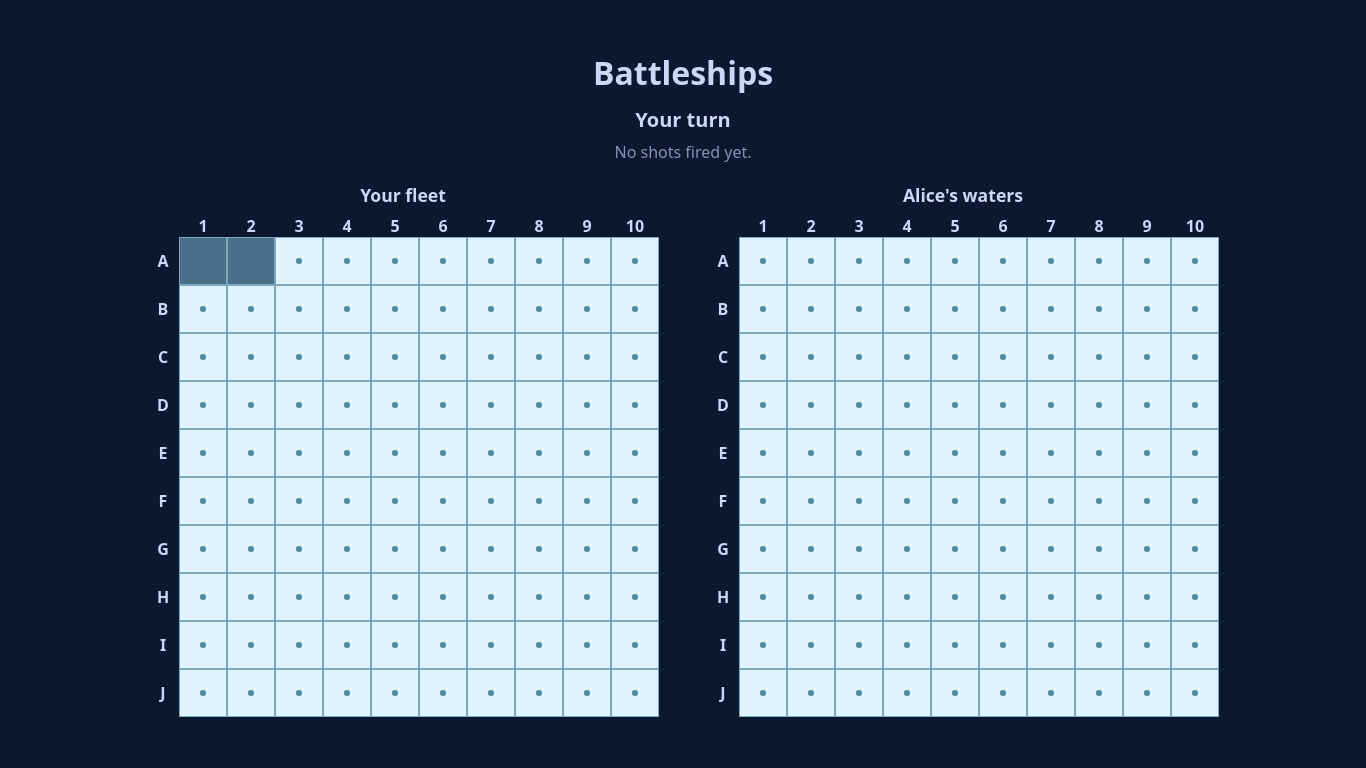
it: Game › shows the server message when a shot is rejected
The image size is (1366, 768).
Click the button titled "B4".
click(907, 309)  # box [883,285,931,333]
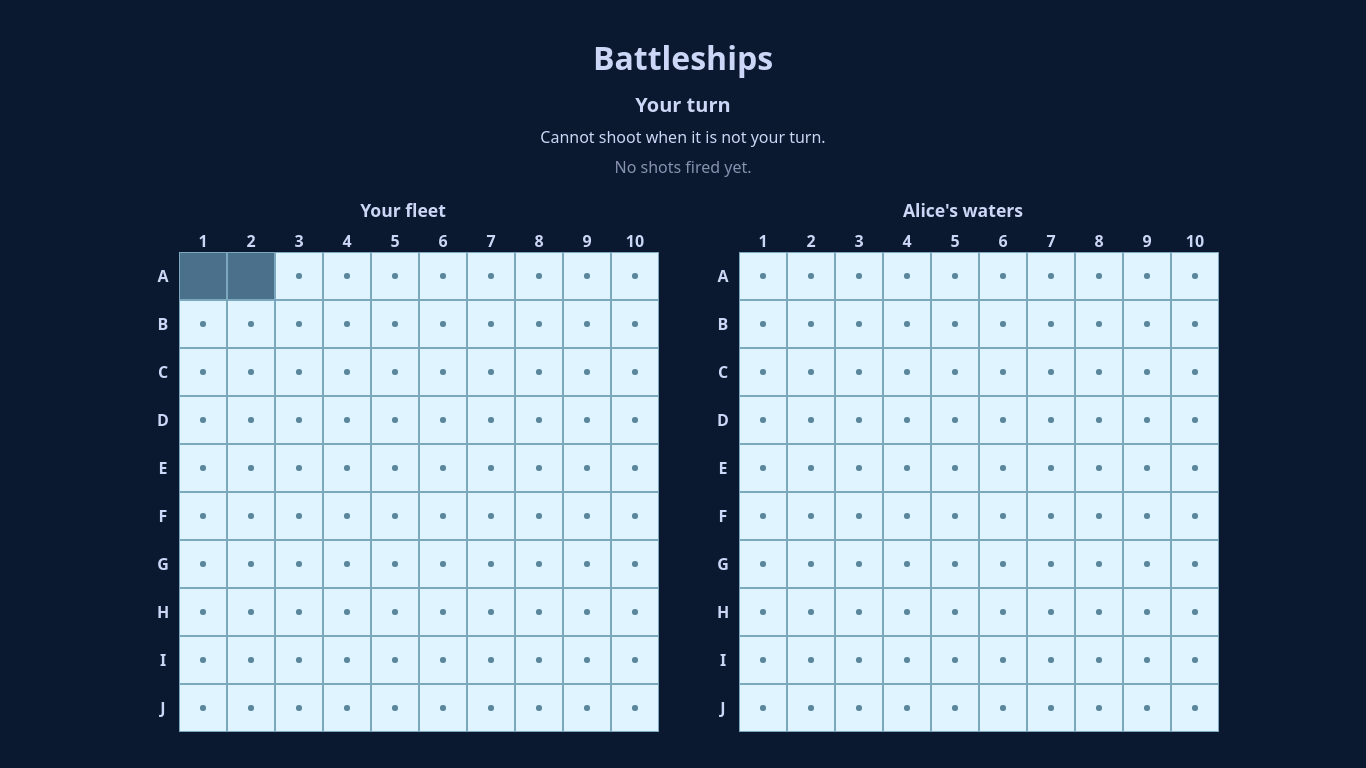
Expected: the message "Cannot shoot when it is not your turn." is shown, [540,126,826,148]
